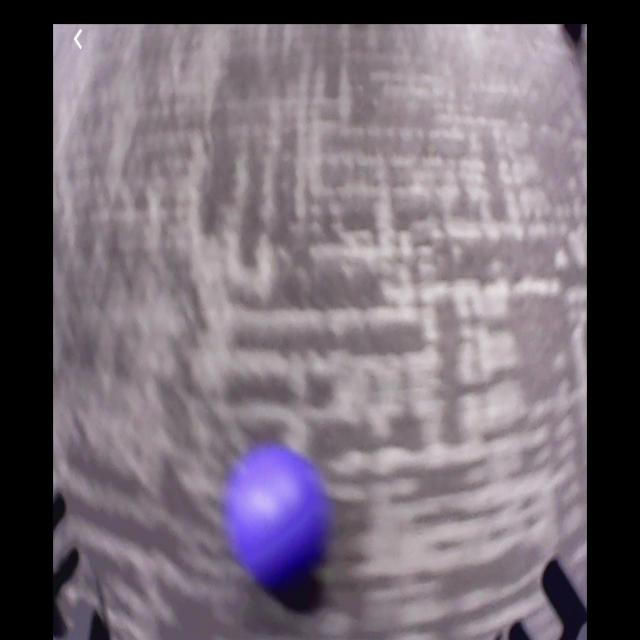ball: (238, 450, 319, 579)
